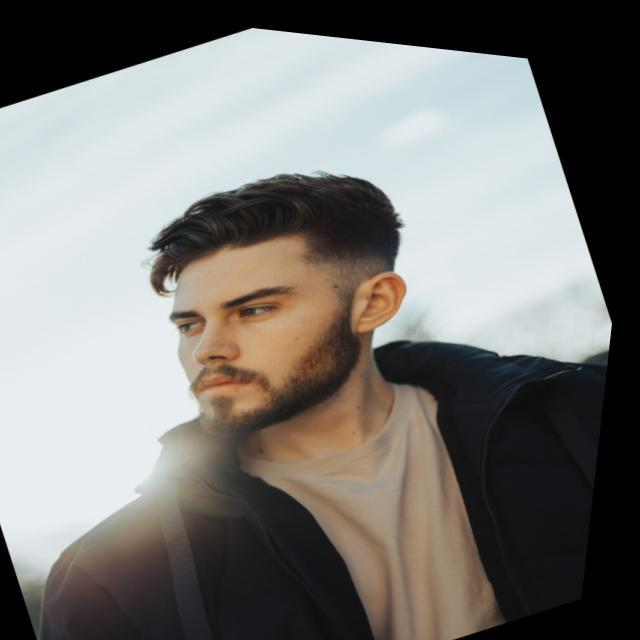Nonhelmet: (142, 166, 411, 439)
